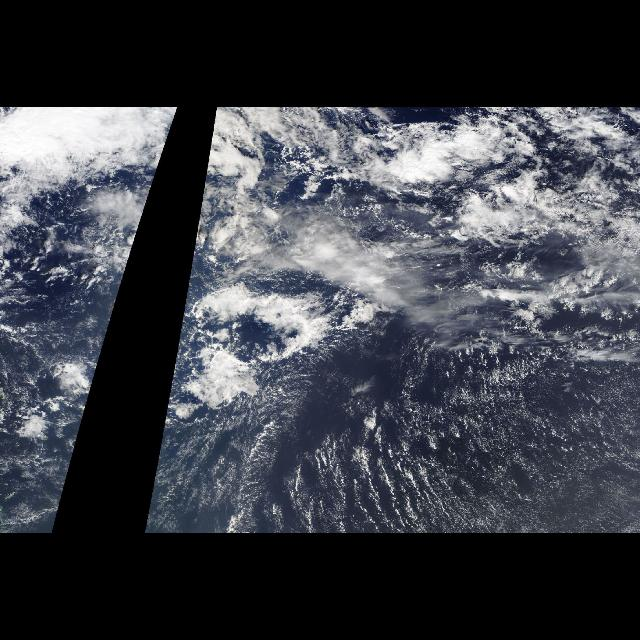Fish: (166, 271, 370, 415)
Sugar: (259, 357, 639, 533), (144, 404, 256, 532), (1, 404, 88, 532)
